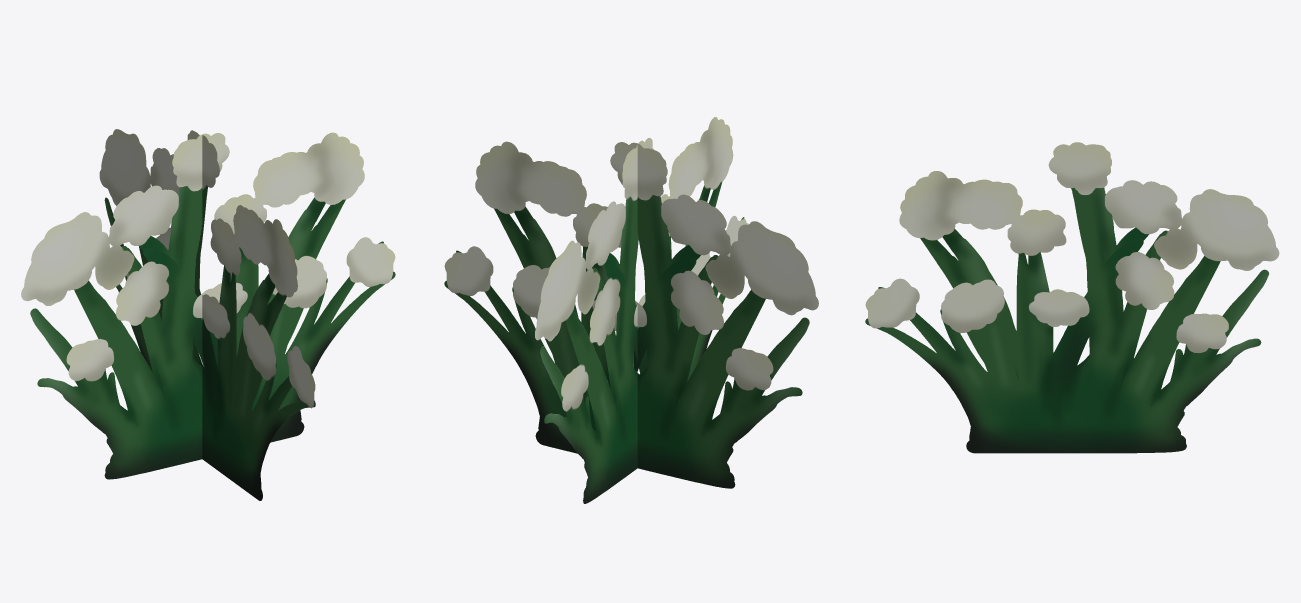
The model's file is Flower_002.fbx.
3 renders of one model, left to right at view 1: azimuth 30°, elevation 25°; view 2: azimuth 150°, elevation 25°; view 3: azimuth 270°, elevation 25°, orthographic. The views are drawn at different scales.
Parts seen in each view (by area): view 1: pPlane1, pPlane2; view 2: pPlane1, pPlane2; view 3: pPlane2.
Boxes of the visible parts, bbox=[...] form: pPlane1: bbox=[21, 132, 395, 479]; pPlane2: bbox=[99, 129, 315, 500]; pPlane1: bbox=[444, 141, 818, 488]; pPlane2: bbox=[535, 117, 748, 503]; pPlane2: bbox=[865, 142, 1279, 453].
Size of the model in its own units: 18.82 by 18.82 by 18.82.
1 material, 1 textured.
